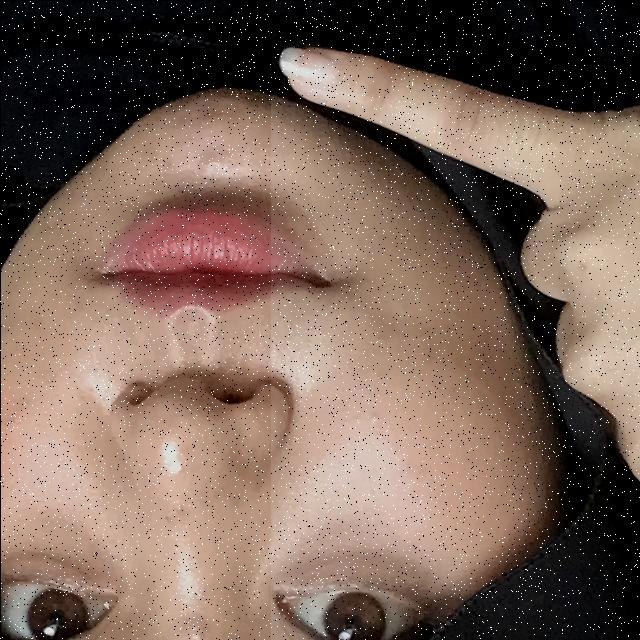telpon: (270, 0, 640, 640)
